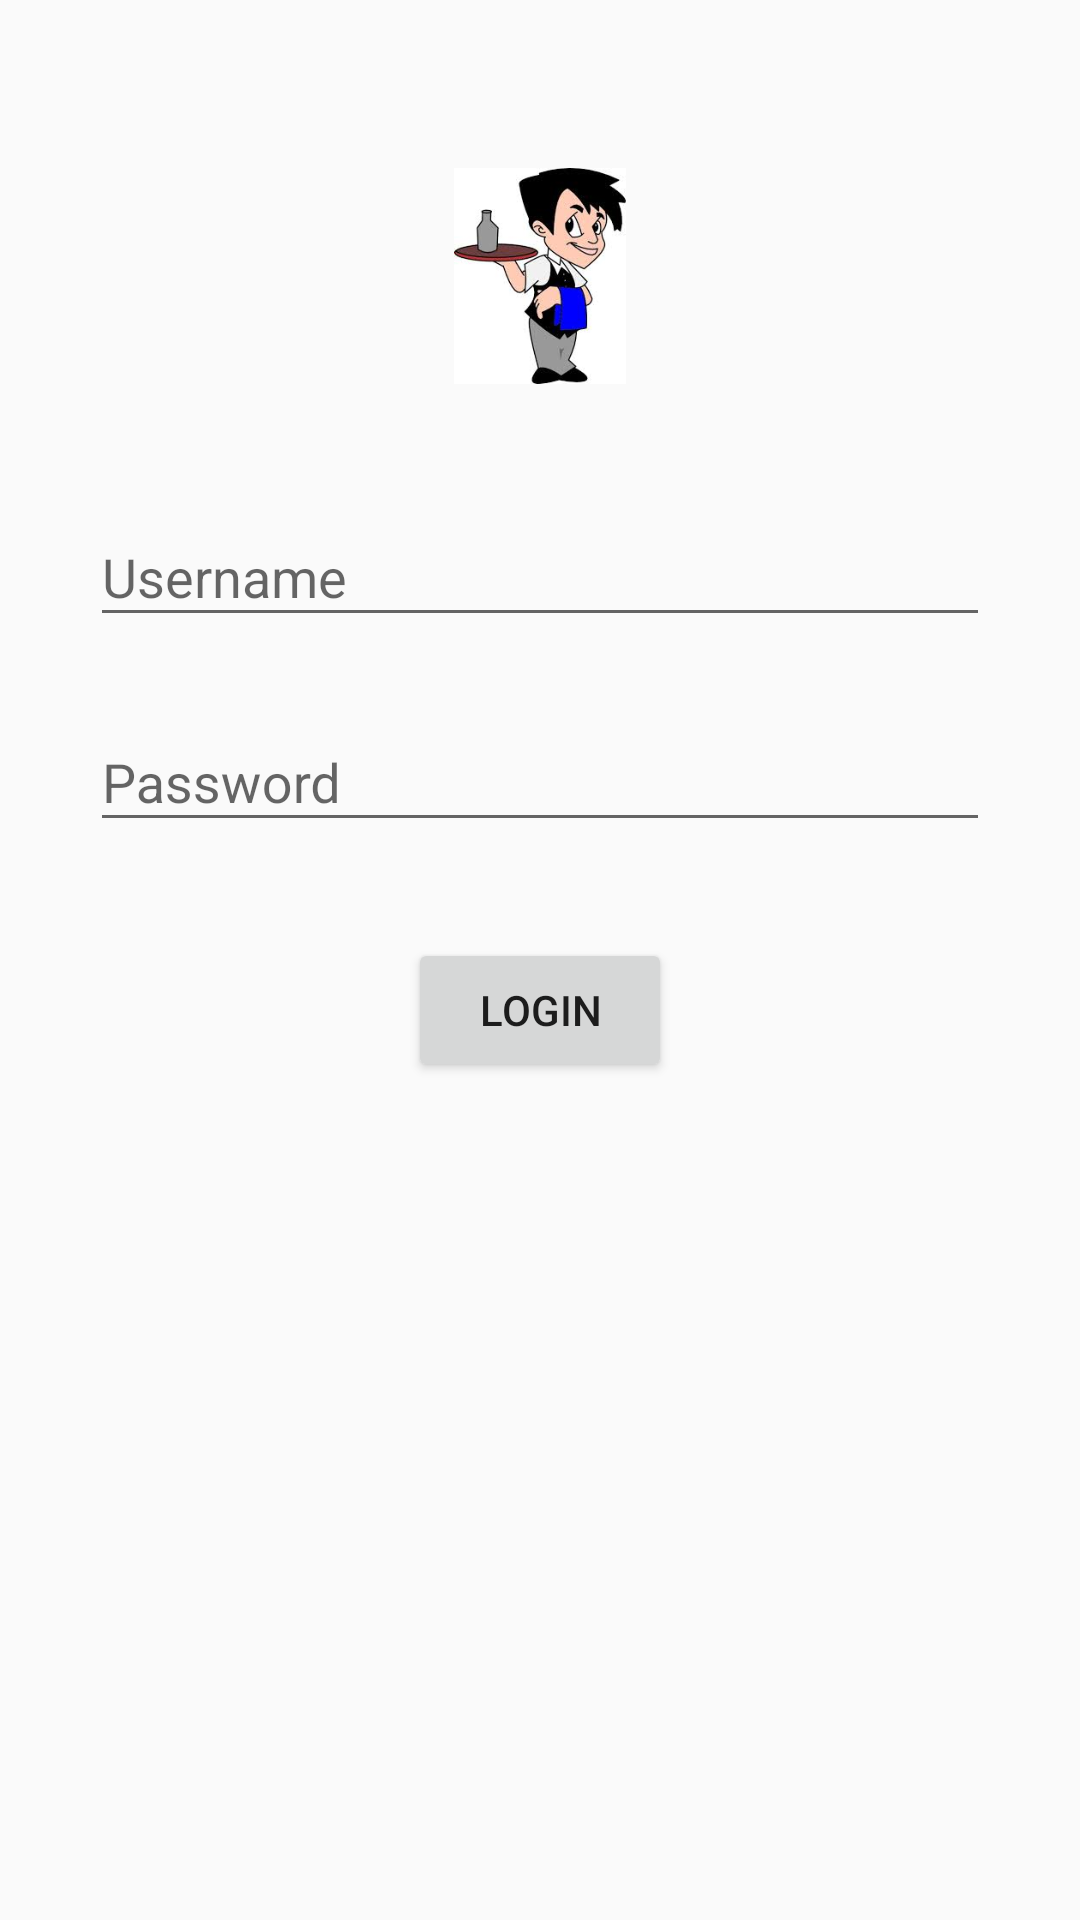

Locate icon controls on the screen. Image size 1080×1920, boxes as BBox(x1, y1, x2, y2).
waiter: BBox(454, 168, 626, 384)
